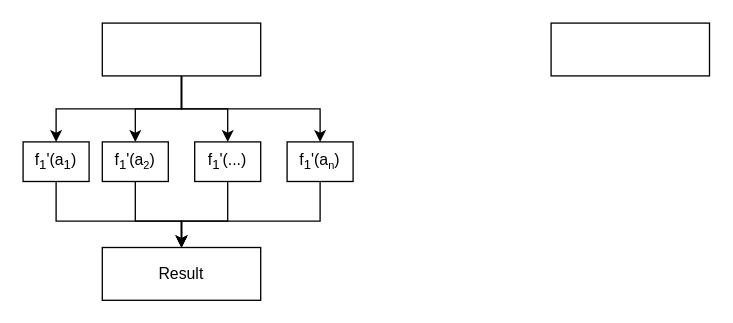
This 733x323 diagram has some shape labels left out. The shapes that lost their labels are listed below. From the top down, each one's centre as x and y in pixels, then its label:
At [181,49]: "f 1 ([a])".
At [630,49]: "f 2 ([a])".
